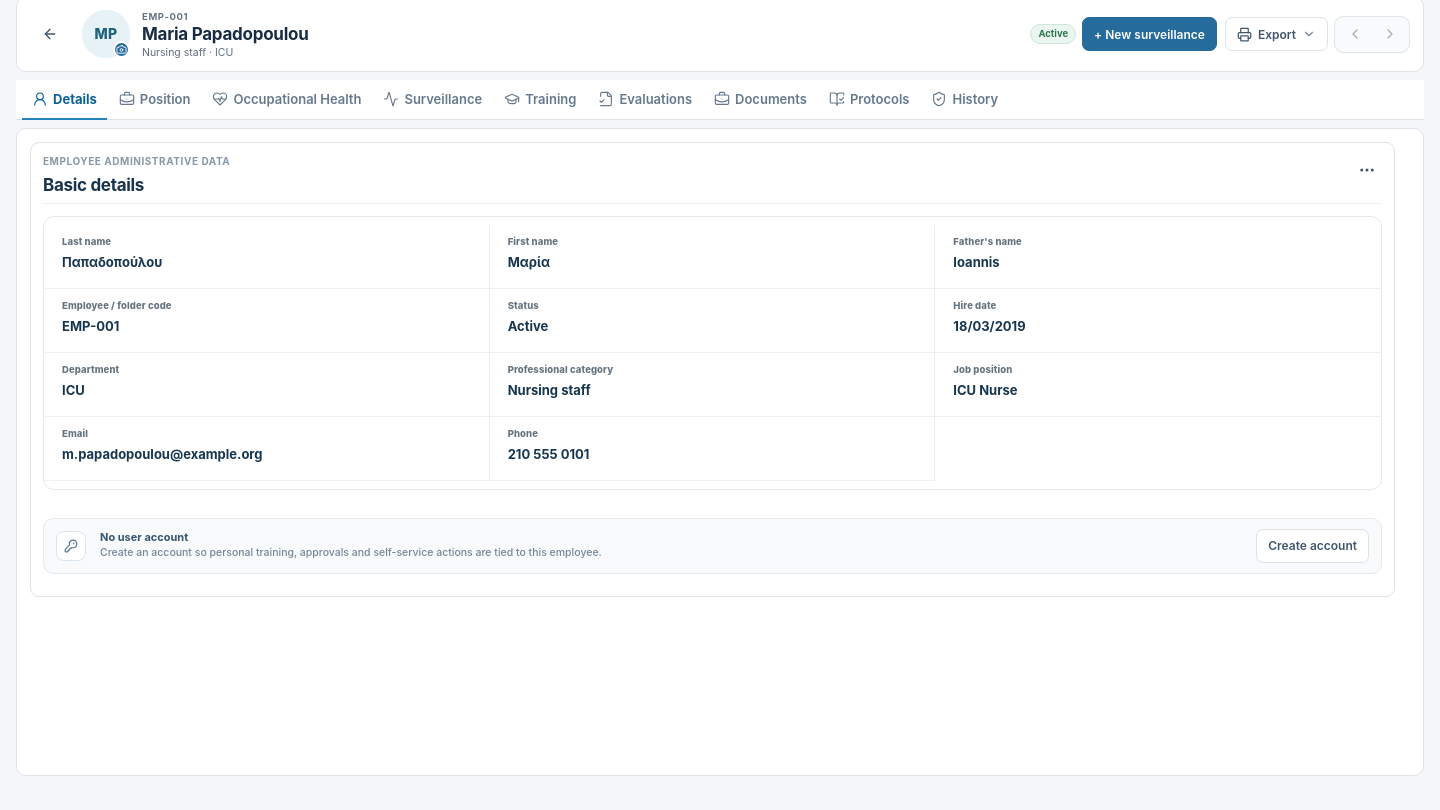
Test: training and evaluations › translates the performance criteria for English
Check: the tab "Details" is shown, box [22, 80, 107, 120]
Click the tab "Evaluations". click: (645, 100)
box: [588, 80, 702, 120]
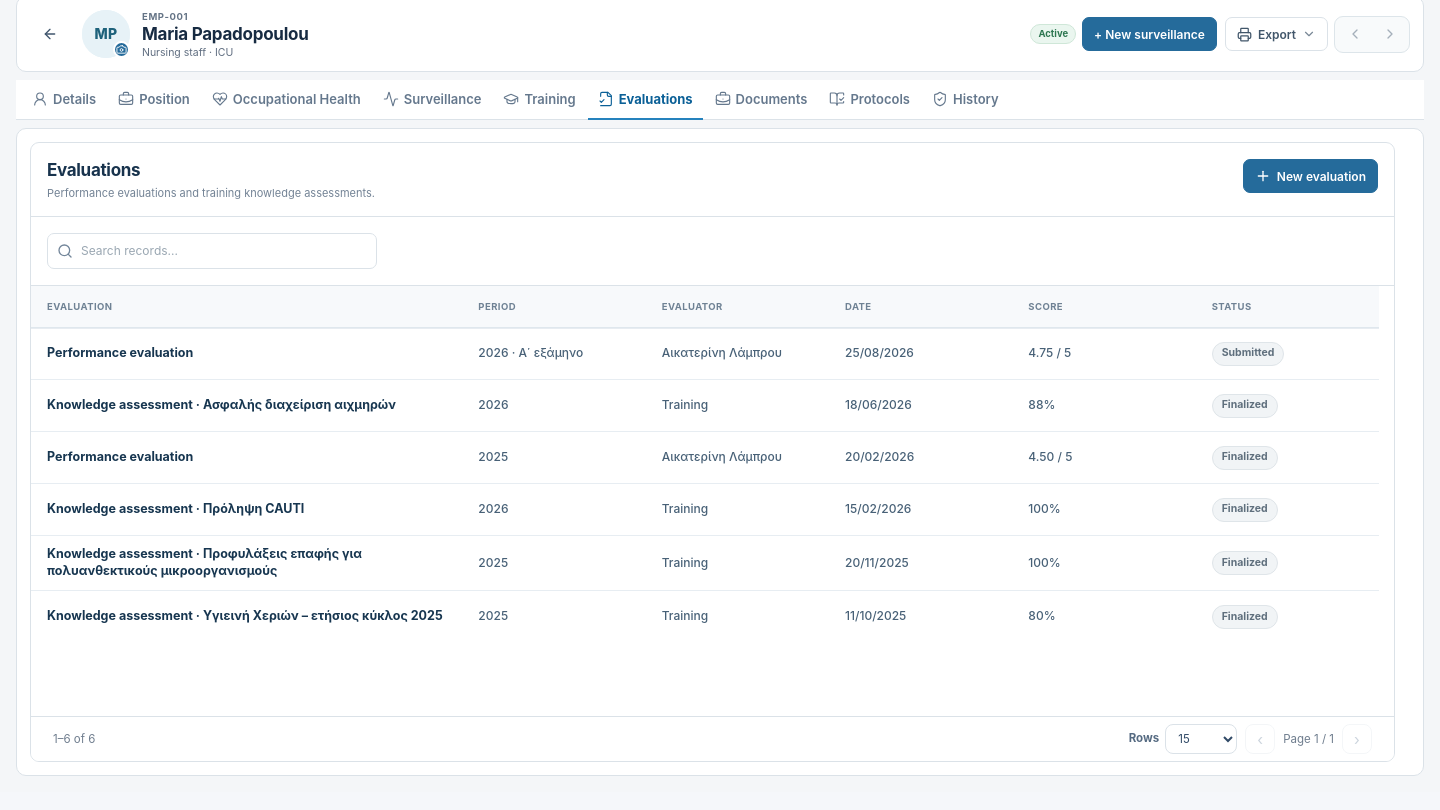
Click the text "Performance evaluation". click: (705, 354)
box: [31, 328, 1379, 380]
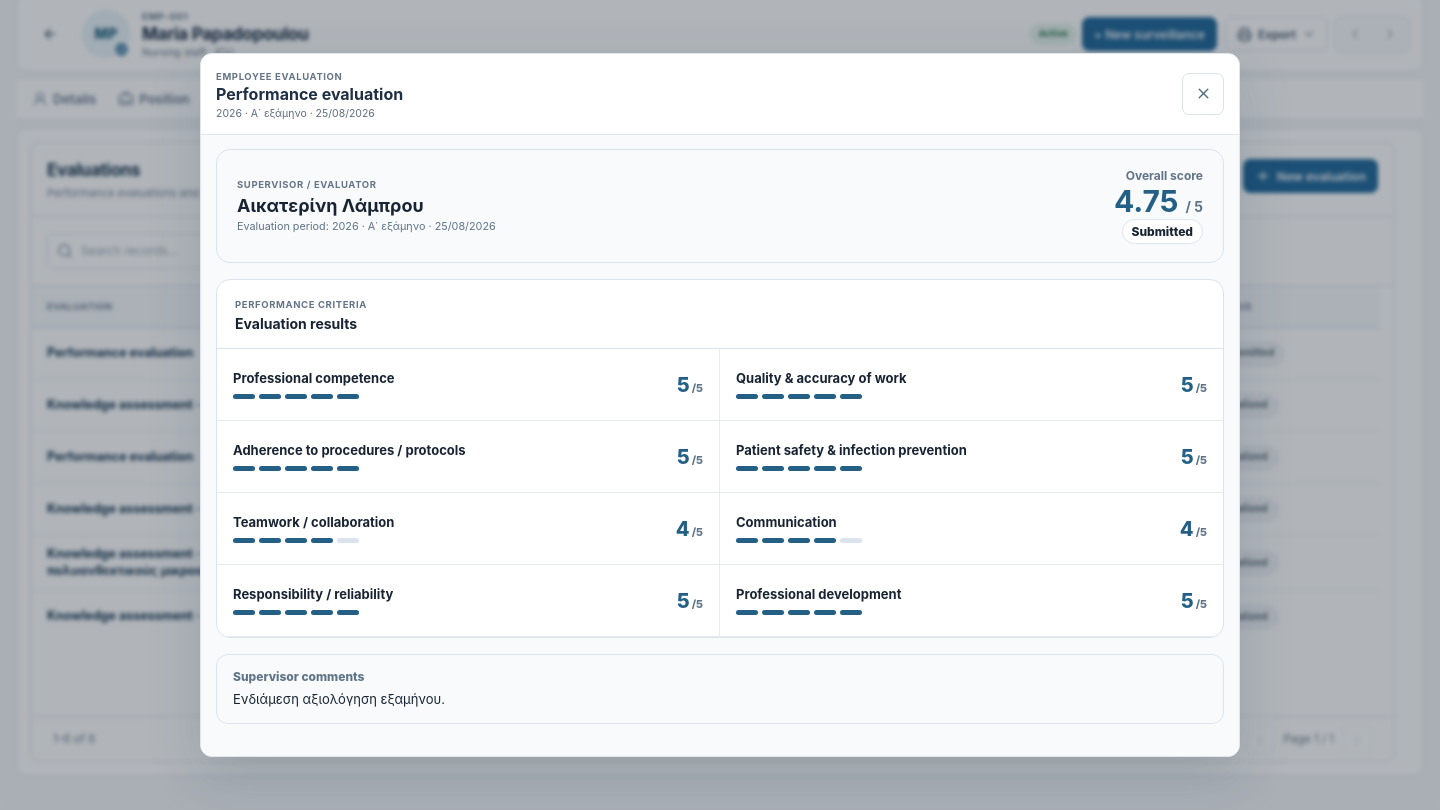
Check: the text "Professional competence" is shown, box [233, 370, 395, 386]
